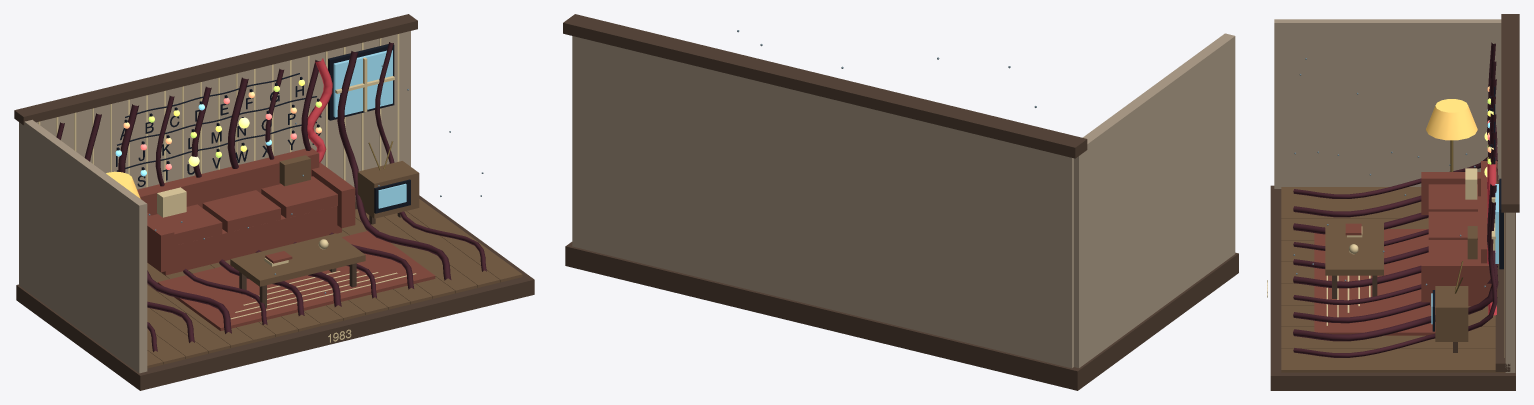
3 renders of one model, left to right at view 1: azimuth 30°, elevation 25°; view 2: azimuth 150°, elevation 25°; view 3: azimuth 270°, elevation 25°, orthographic. The views are drawn at different scales.
Visible parts, largest first — view 1: h_surface_2, h_surface_4, h_surface_1, h_surface_0, u_surface_35, h_surface_3, h_surface_5, h_surface_8, u_surface_36; view 2: h_surface_2, h_surface_0; view 3: h_surface_2, h_surface_1, h_surface_4, h_surface_0, u_surface_35, h_surface_7, h_surface_3, h_surface_5, h_surface_8, u_surface_36.
Boxes of the visible parts, x1,y1,x2,y2 form: h_surface_2: (19,31,410,373); h_surface_4: (137,147,435,330); h_surface_1: (147,155,522,368); h_surface_0: (14,14,534,390); u_surface_35: (56,42,486,351); h_surface_3: (38,34,416,342); h_surface_5: (116,44,410,213); h_surface_8: (333,50,406,208); u_surface_36: (307,58,332,162); h_surface_2: (572,33,1235,368); h_surface_0: (563,14,1238,390); h_surface_2: (1274,19,1515,372); h_surface_1: (1281,187,1504,372); h_surface_4: (1314,161,1497,335); h_surface_0: (1270,14,1519,390); u_surface_35: (1293,42,1498,357); h_surface_7: (1426,99,1477,140); h_surface_3: (1267,168,1504,357); h_surface_5: (1432,86,1503,331); h_surface_8: (1431,184,1498,324); u_surface_36: (1487,164,1496,315).
Bounding box in the file's own units: 1.23 × 0.562 × 0.6885.
